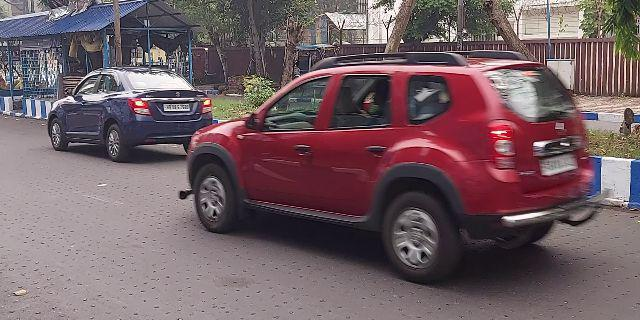Car: (190, 48, 606, 278), (40, 62, 216, 175)
